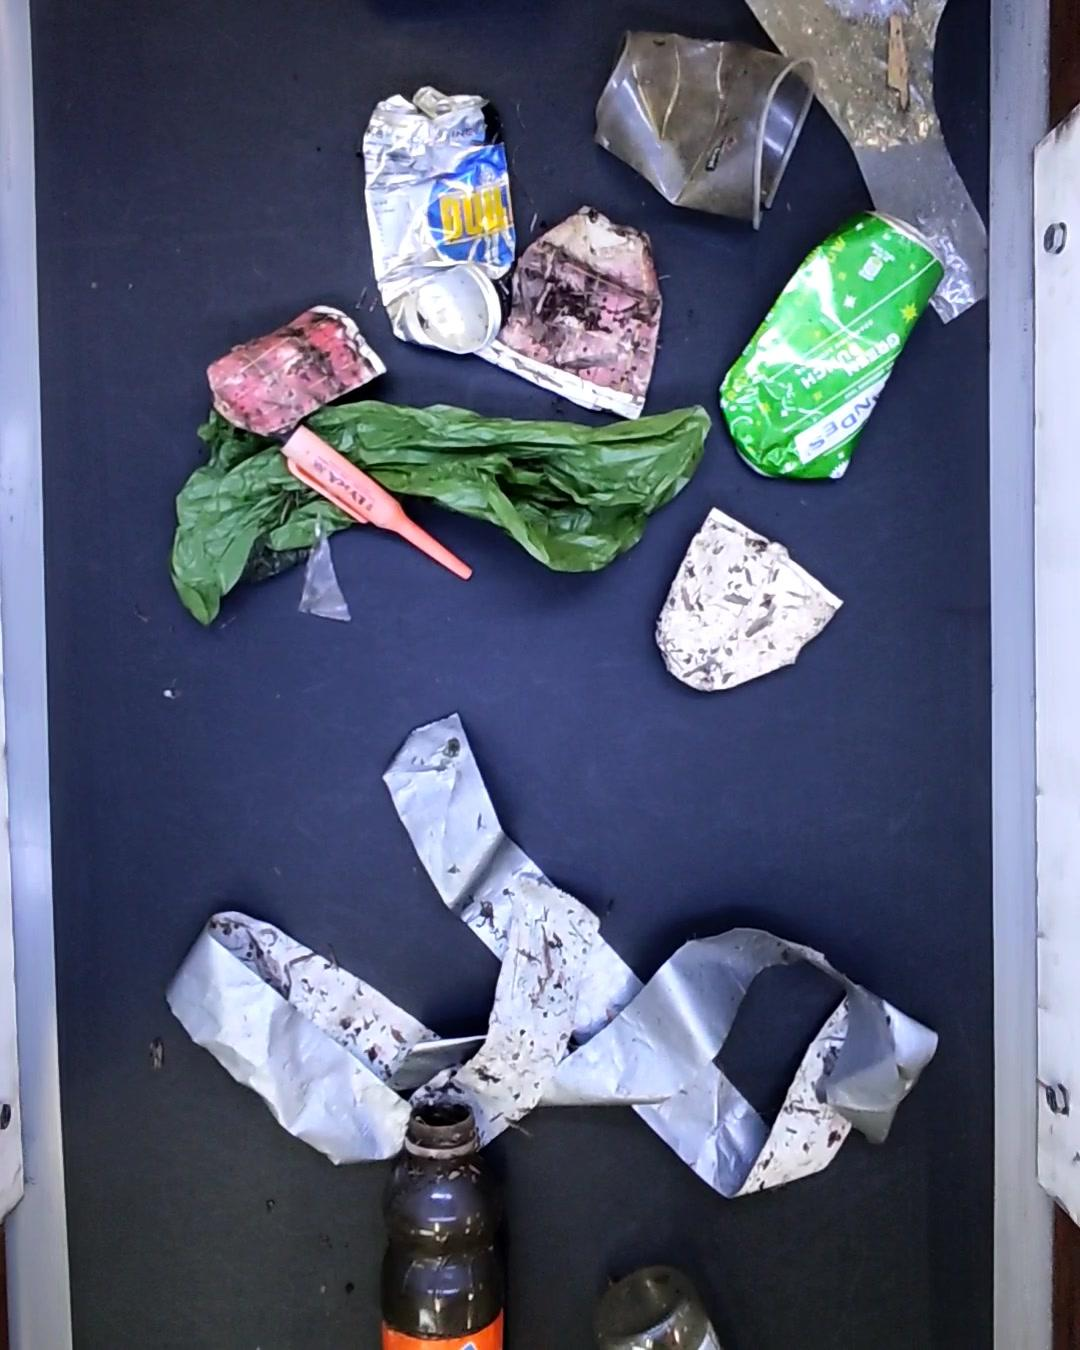Drankblikjes: (719, 207, 950, 487), (361, 82, 516, 352)
Drankflessen - 1-2 liter: (384, 1100, 505, 1350)
Plastic folies of stukken daarvan 2.5- 50 cm: (755, 0, 1001, 321), (295, 514, 353, 625)
